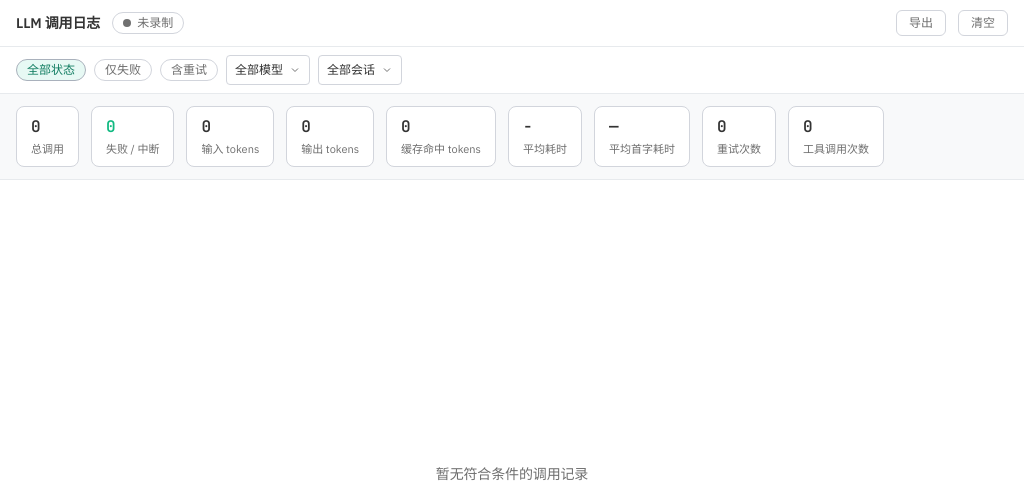
Test case: LlmLogsWindow 对话框形态组件（标题栏由 ConfigDialogWindow 统一壳提供） › 拉投影的乱序响应：旧请求后返回被丢弃，界面只来自最新一次请求
# 会话列表就绪后切到 conv-b，触发第二次拉取
Click the button with aria-label "按会话过滤" at (360, 70), box [318, 55, 402, 85]
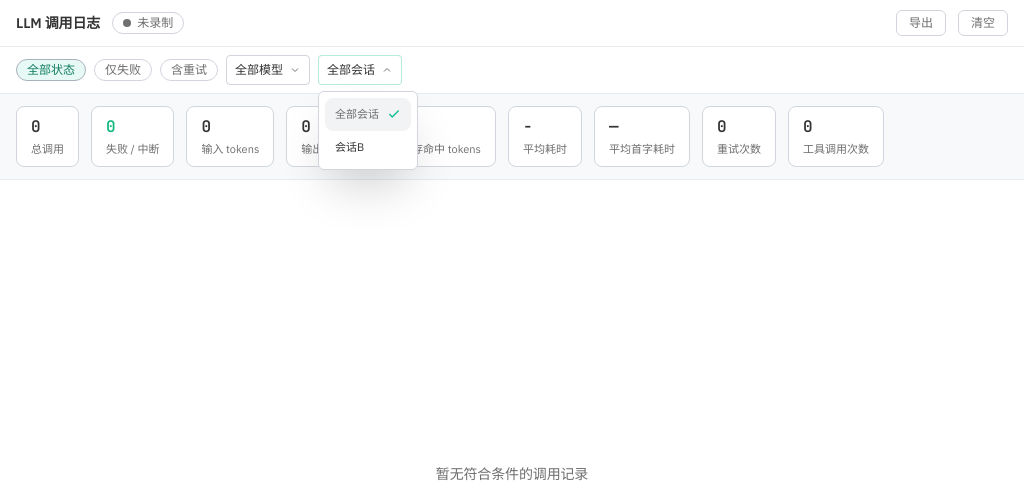
Click the option "会话B" at (368, 147), box [325, 130, 411, 163]
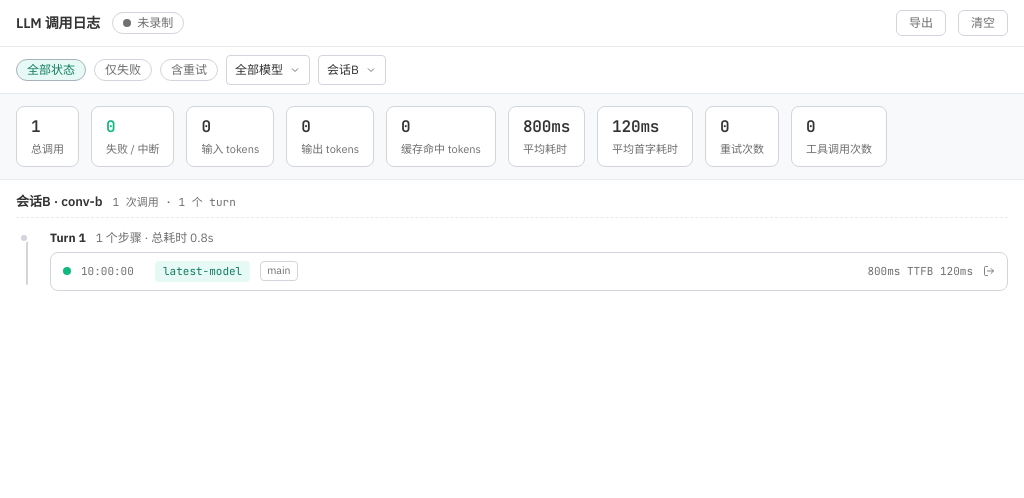
Expected: the text "latest-model" is shown, [155, 261, 250, 282]
